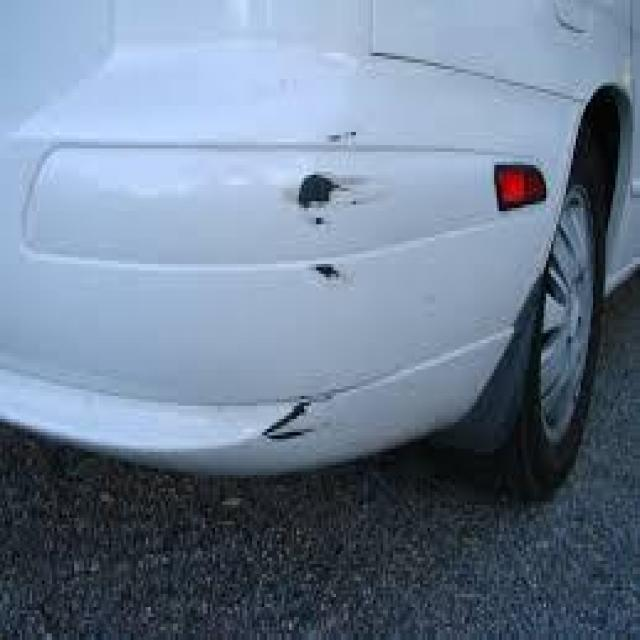damaged: (255, 119, 373, 439)
